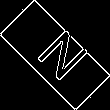N_SW: (23, 23, 87, 87)
